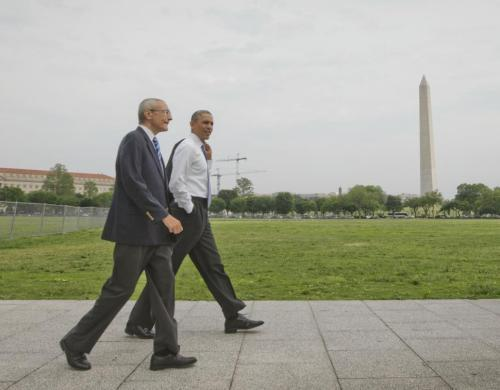up: (55, 96, 202, 377), (123, 105, 267, 342)
